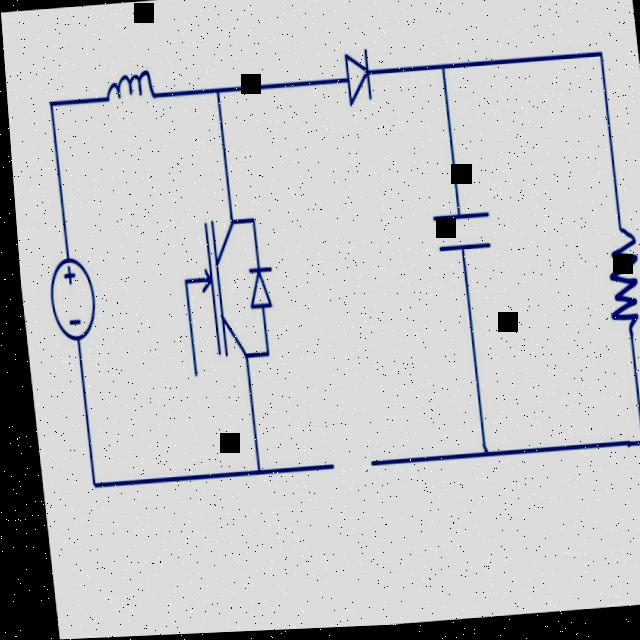capacitor: (414, 181, 501, 290)
diode: (330, 38, 380, 127), (233, 247, 279, 334)
inductor: (98, 55, 160, 121)
mosfet: (167, 201, 251, 398)
resistor: (587, 203, 640, 357)
source: (32, 245, 99, 351)
